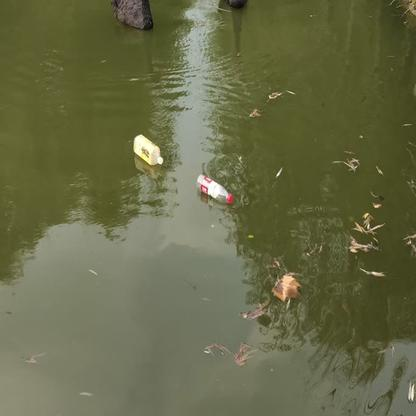plastic bottle: (196, 175, 233, 205), (133, 134, 164, 166)
